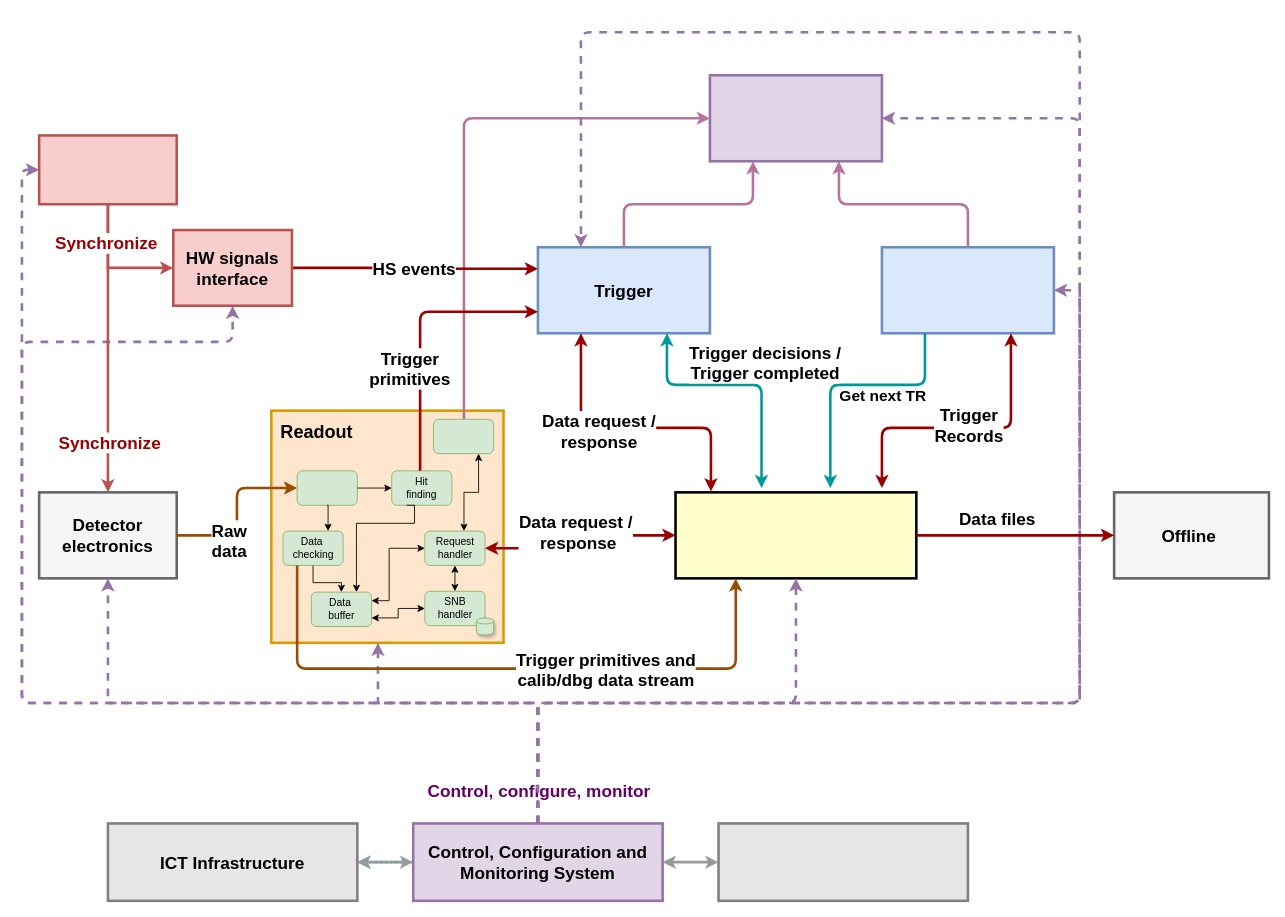
This 1285x917 diagram has some shape labels left out. The centre of each missing label's shape, as x and y in pixels:
"Data collection" belongs at (795,535).
"Data Filter" belongs at (967,290).
"Data monitoring" belongs at (463,436).
"Data Quality Monitoring" belongs at (795,118).
"Data reception" belongs at (326,487).
"Slow Control" belongs at (843,862).
"Timing System" belongs at (107,169).
